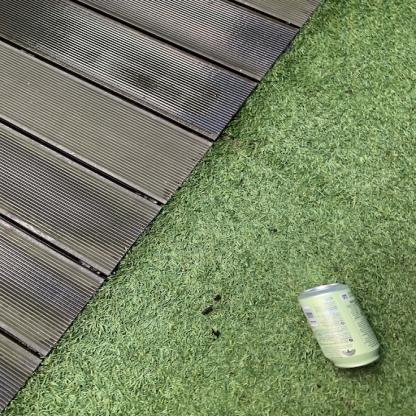trash: (299, 285, 380, 375)
